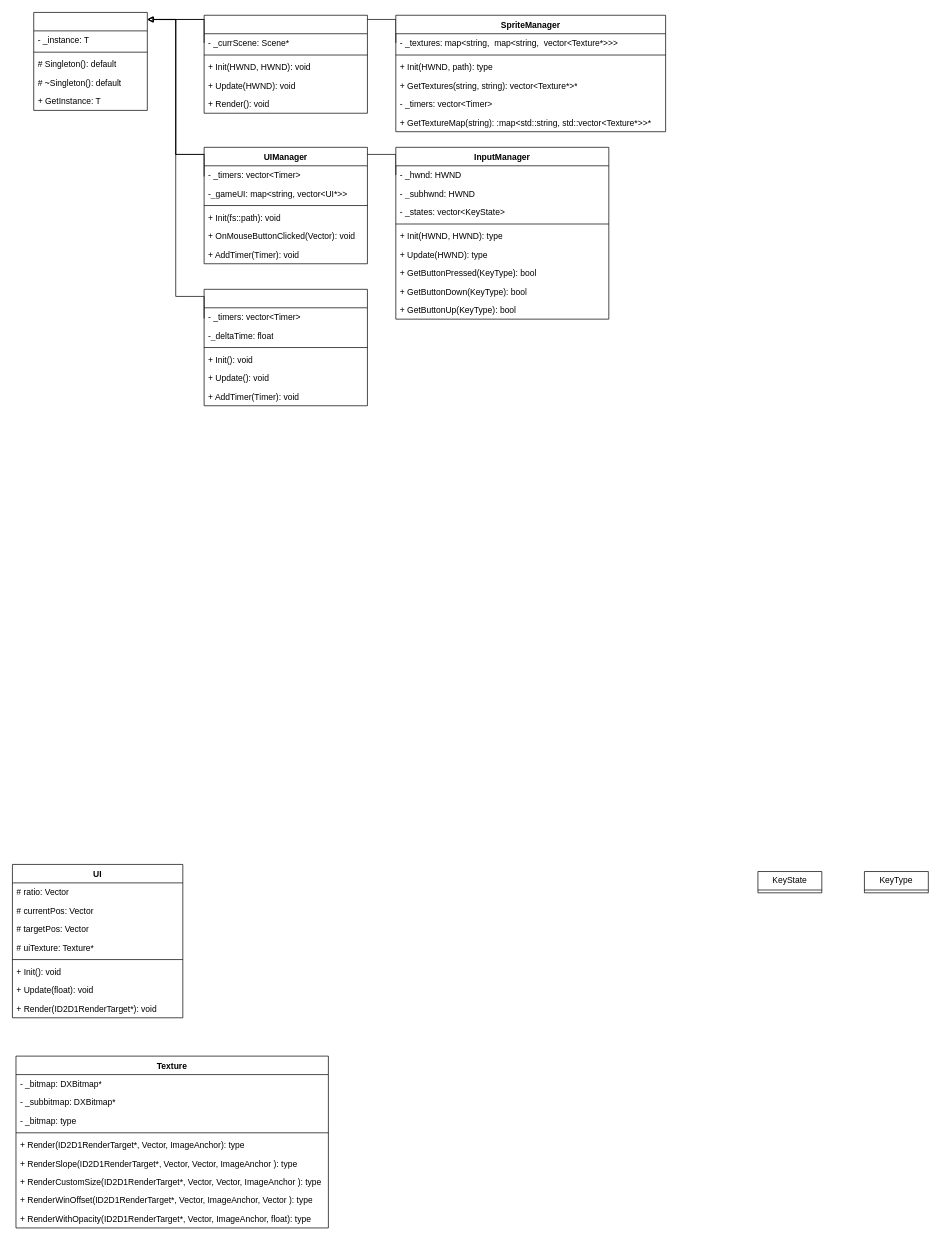
The diagram is 941 pixels wide and 1243 high, and some of its shapes have lost their labels. Each missing label, with the box of its shape:
Game: (203, 15, 367, 113)
Singleton<T>: (33, 12, 147, 110)
TimeManager: (203, 289, 367, 406)
